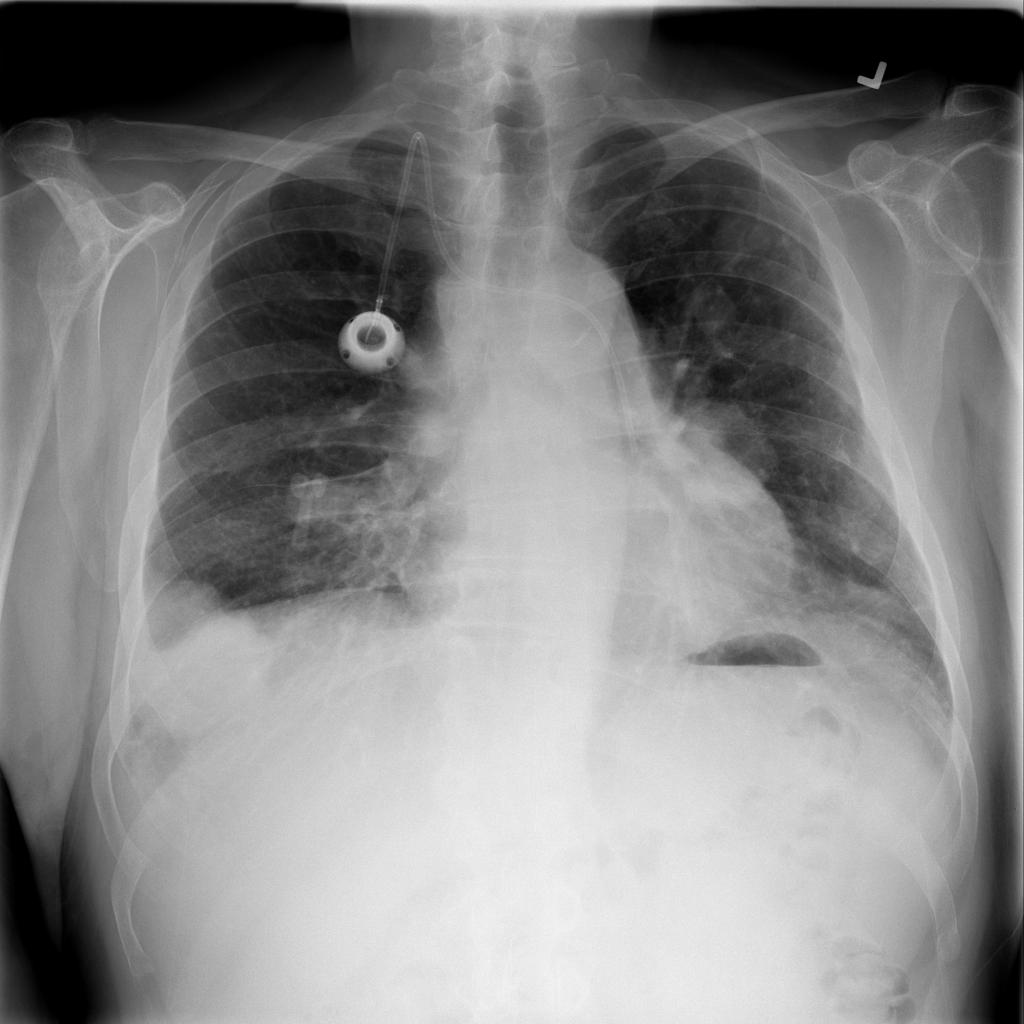nodule: (119, 589, 273, 758), (646, 403, 785, 531)
